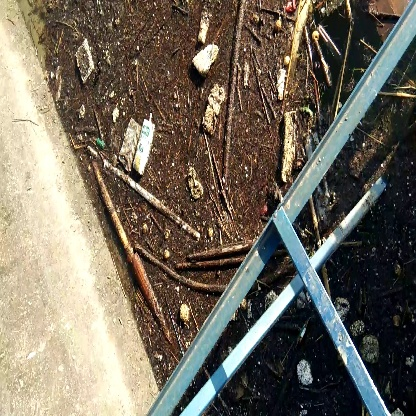branch: (89, 164, 158, 324)
milk-box: (132, 111, 163, 173)
